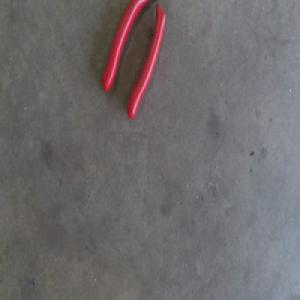Pliers: (100, 0, 167, 116)
